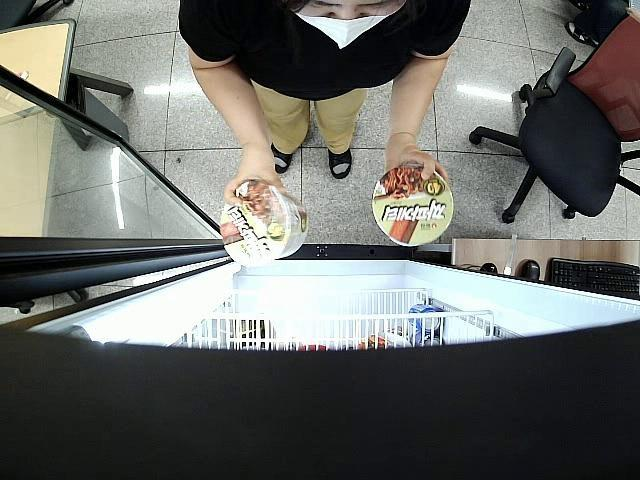03_chapagetti_L: (220, 181, 306, 267), (373, 163, 454, 246)
